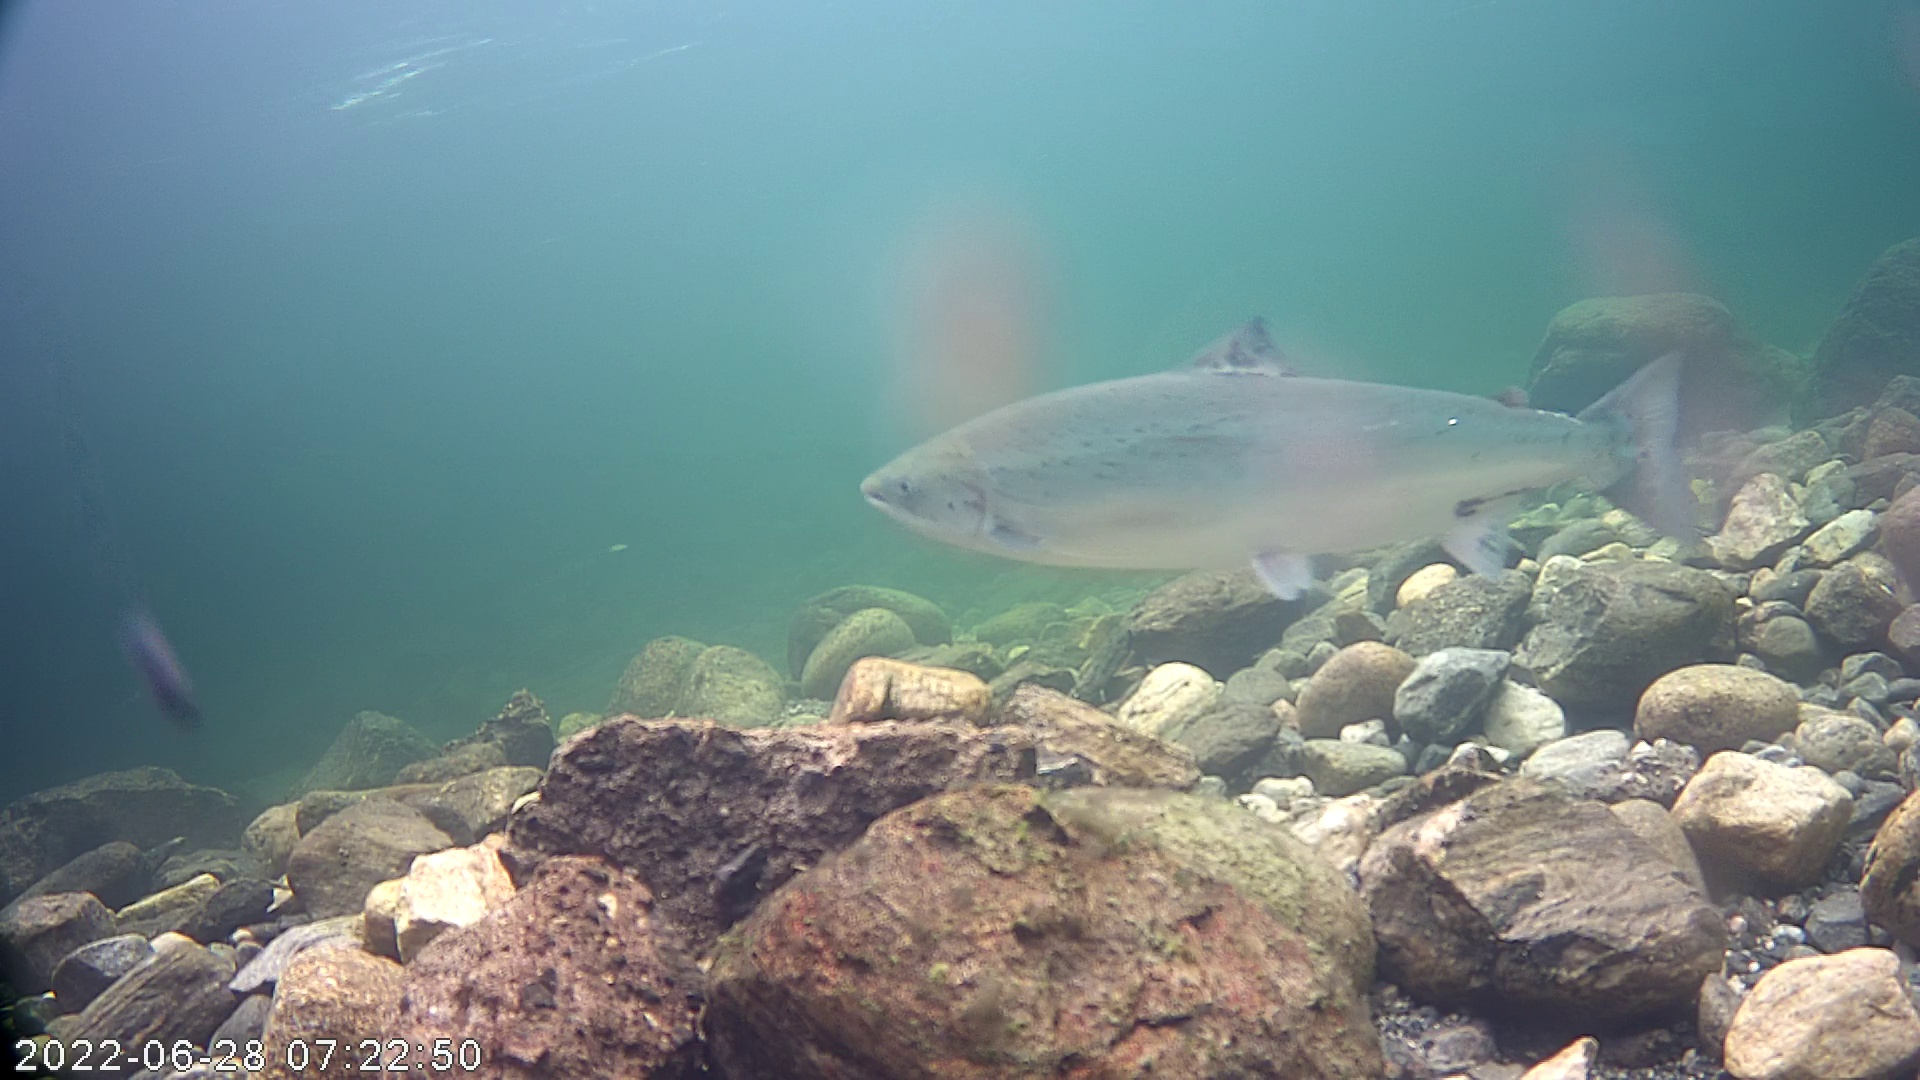salmon: (848, 233, 1724, 669)
